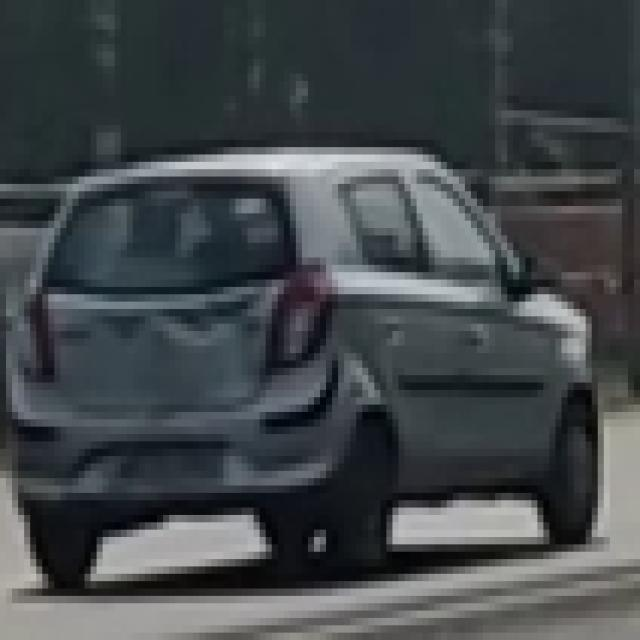car: (5, 140, 613, 576)
